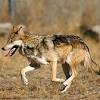Lobo: (1, 23, 95, 89)
